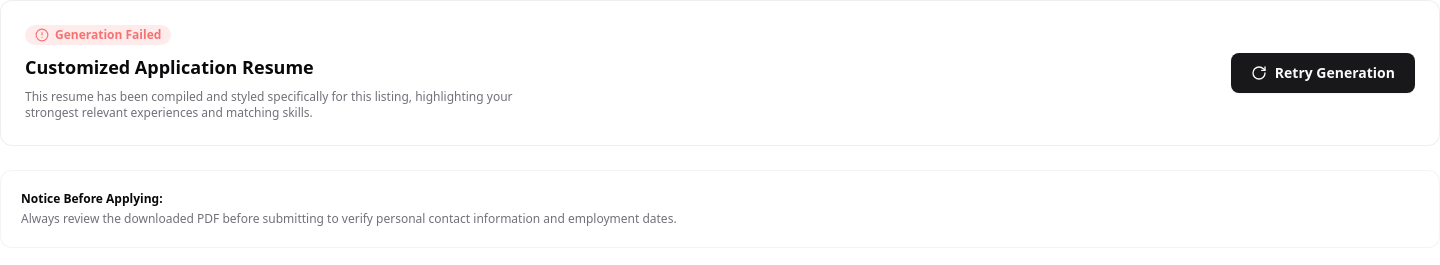
Test case: ResumeTab component › shows error message when retry fails
Click the button "Retry Generation" at (1323, 73), box [1231,53,1415,93]
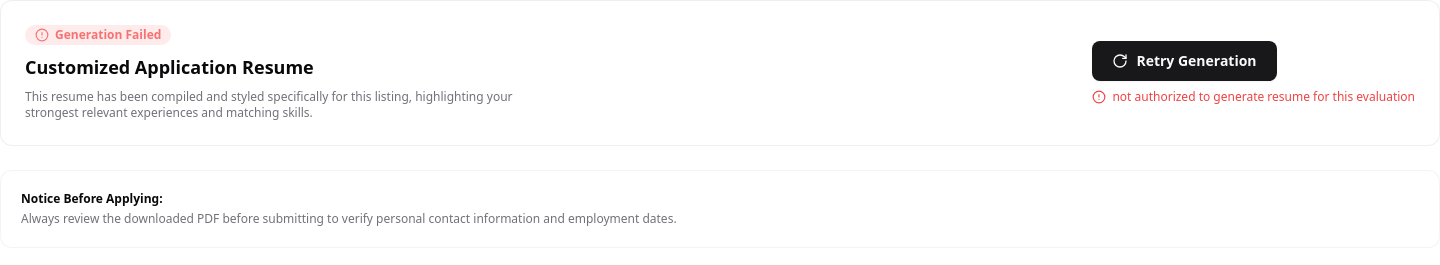
Expected: the text "not authorized to generate resume for this evaluation" is shown, [1112,89,1415,105]
